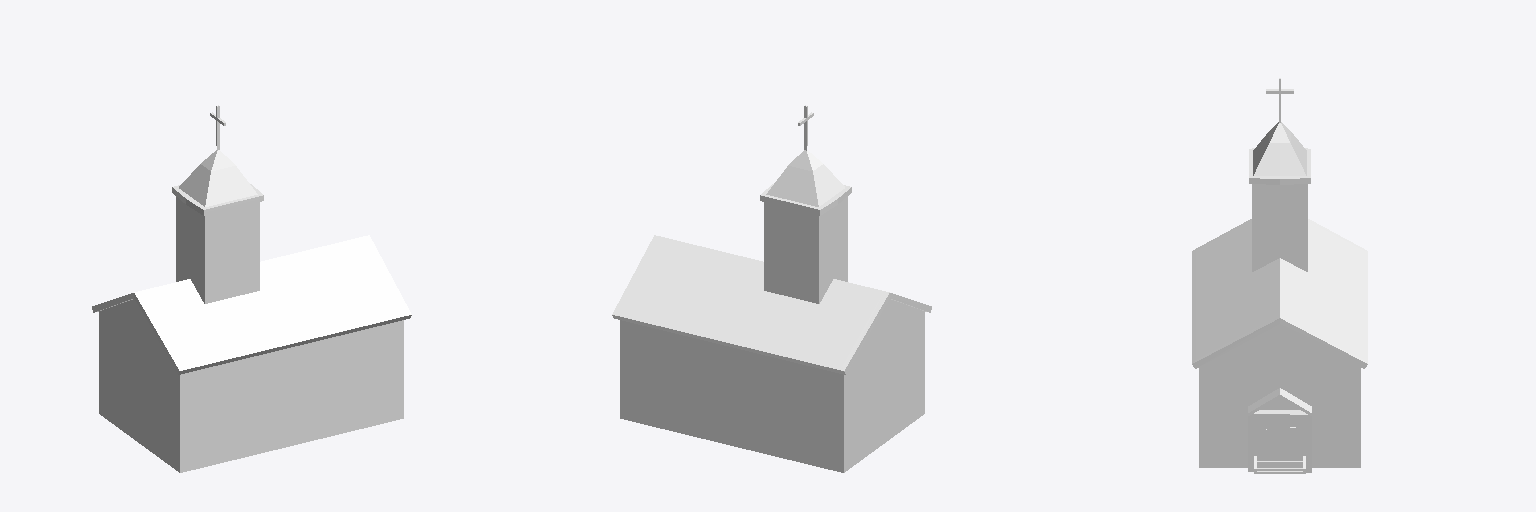
Rendered from church_001.obj.
3 renders of one model, left to right at view 1: azimuth 30°, elevation 25°; view 2: azimuth 150°, elevation 25°; view 3: azimuth 270°, elevation 25°, orthographic.
Parts seen in each view (by area): view 1: Box001; view 2: Box001; view 3: Box001.
Boxes of the visible parts, x1,y1,x2,y2 form: Box001: [92, 105, 411, 472]; Box001: [612, 105, 931, 472]; Box001: [1192, 78, 1367, 473].
Bounding box in the file's own units: 87 × 109 × 54.49.